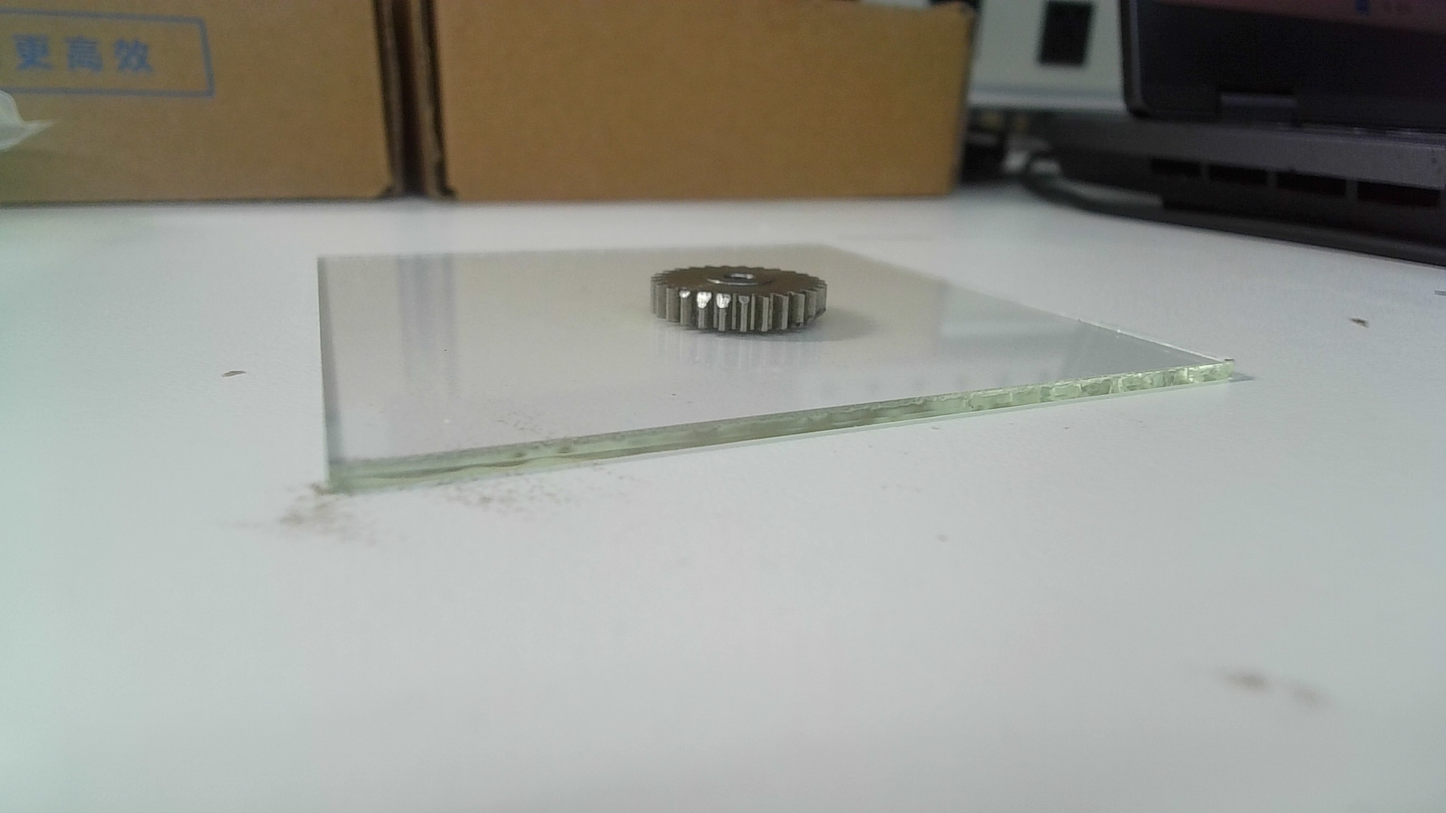gear: (647, 263, 832, 339)
